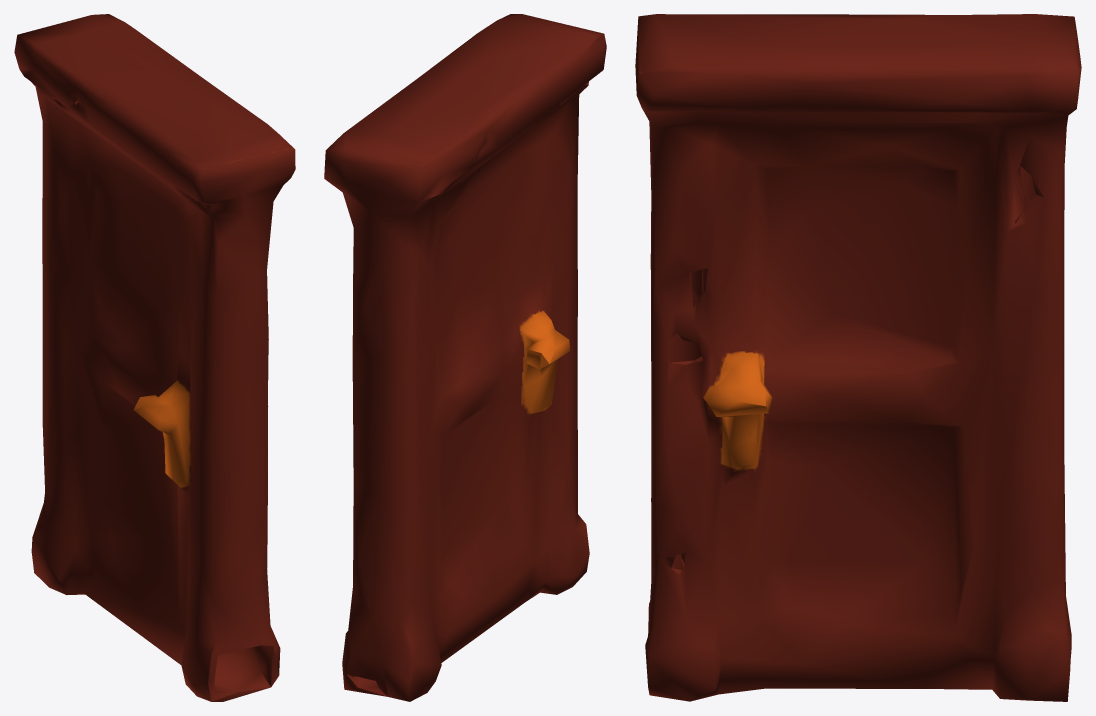
File: office-door-locked.glb
3 renders of one model, left to right at view 1: azimuth 30°, elevation 25°; view 2: azimuth 150°, elevation 25°; view 3: azimuth 270°, elevation 25°, orthographic. The views are drawn at different scales.
Parts seen in each view (by area): view 1: geometry_0.001; view 2: geometry_0.001; view 3: geometry_0.001.
Boxes of the visible parts, x1=… form: geometry_0.001: x1=14, y1=14, x2=295, y2=701; geometry_0.001: x1=324, y1=14, x2=606, y2=701; geometry_0.001: x1=635, y1=14, x2=1081, y2=701.
Bounding box in the file's own units: 0.2016 × 1 × 0.6264.
1 material, 1 textured.
